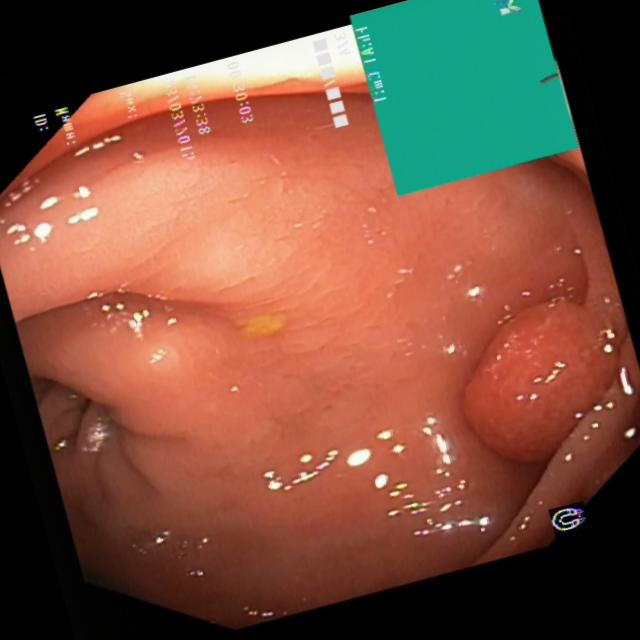Polyps: (457, 294, 619, 473)
